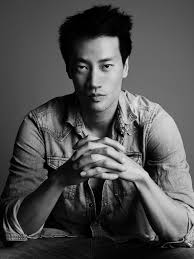asian_male: (47, 1, 140, 117)
